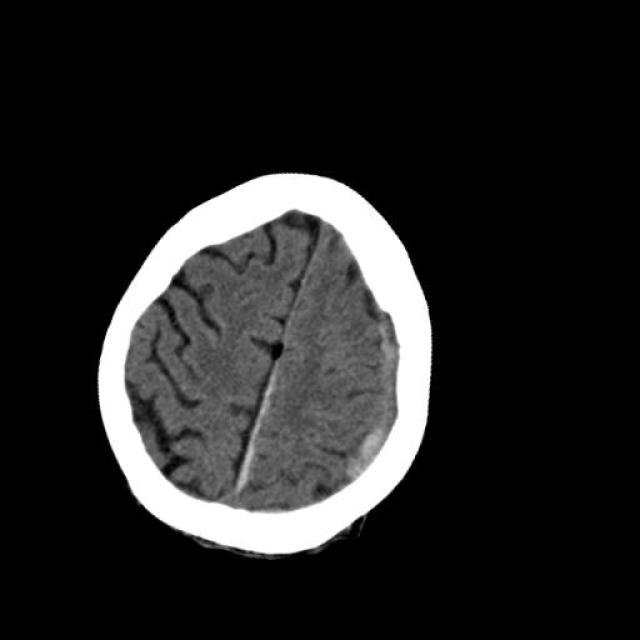Subdural: (318, 299, 478, 505), (210, 342, 306, 508)
